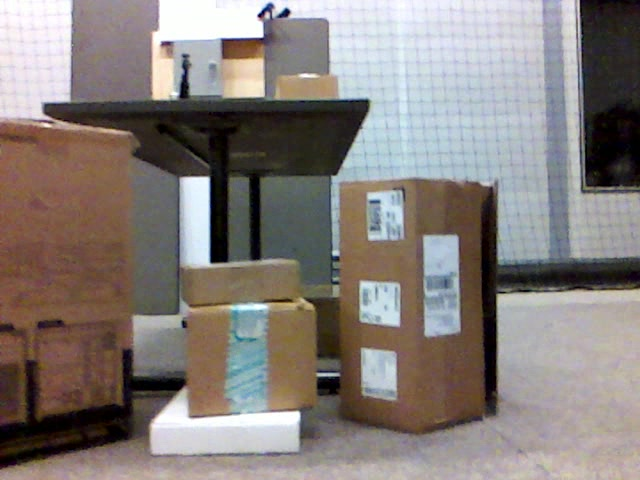box: (1, 117, 132, 470), (339, 179, 499, 437), (182, 297, 317, 417), (180, 258, 304, 303), (277, 74, 338, 99)
